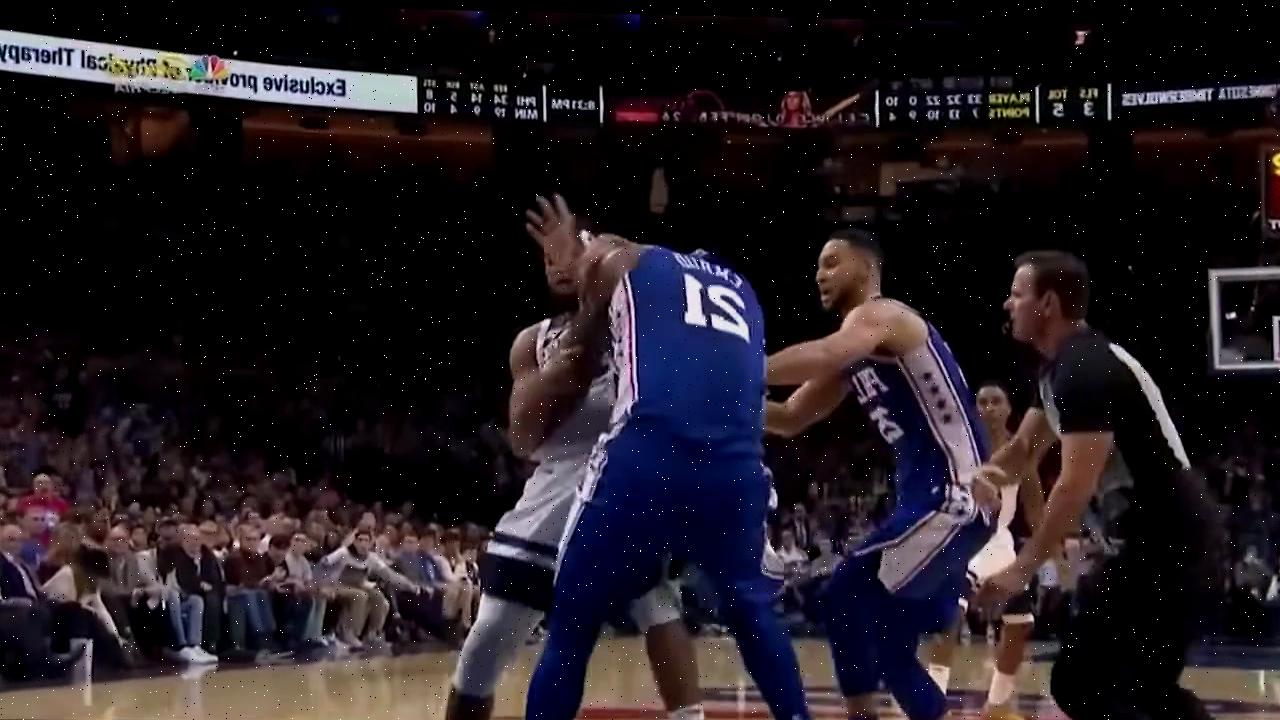foul: (400, 192, 838, 720)
